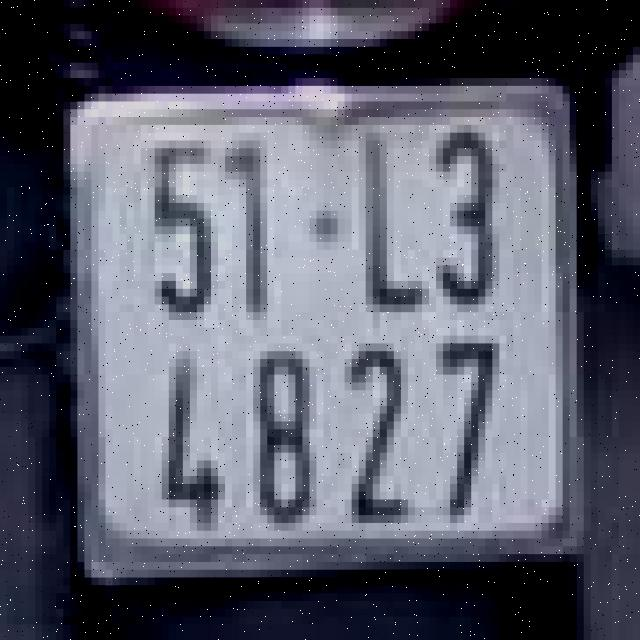1: (221, 121, 285, 324)
2: (341, 336, 426, 538)
3: (436, 117, 528, 320)
4: (141, 344, 239, 538)
5: (141, 133, 218, 320)
7: (429, 324, 527, 542)
8: (250, 336, 327, 530)
L: (338, 121, 429, 316)
